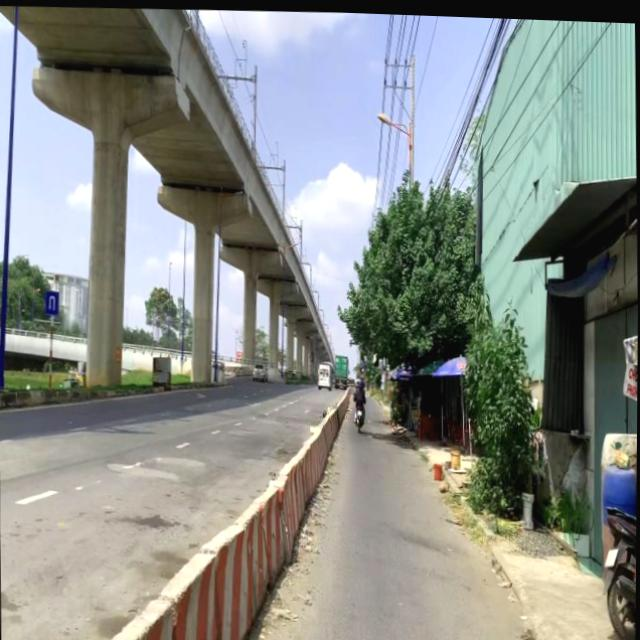Cho quay xe: (45, 289, 59, 315)
